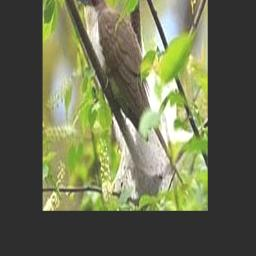Cuckoo: (77, 0, 182, 183)
